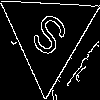S: (23, 10, 71, 67)
